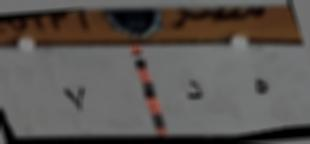7: (59, 75, 96, 120)
daal: (179, 70, 211, 107)
haa: (244, 71, 275, 103)
